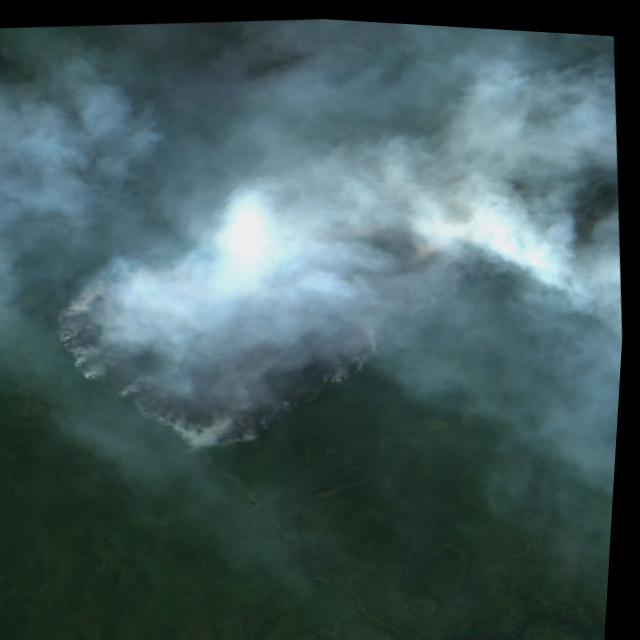fire: (38, 180, 534, 474)
